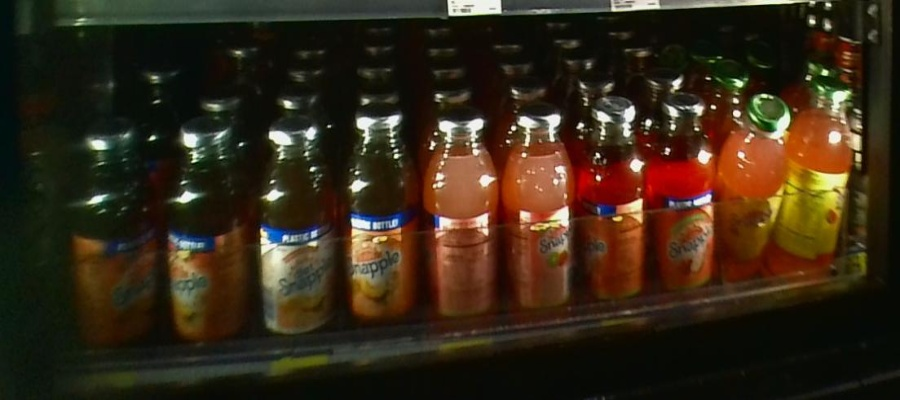bottle: (158, 117, 253, 370), (67, 112, 157, 377), (254, 112, 339, 377), (419, 97, 499, 360), (338, 106, 418, 364), (574, 95, 648, 335), (501, 100, 571, 352), (650, 86, 721, 327), (793, 68, 855, 316), (726, 79, 789, 316)
